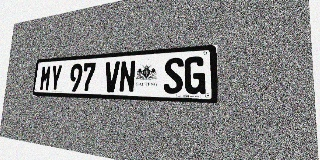7: (81, 63, 96, 92)
9: (69, 63, 83, 92)
G: (184, 56, 206, 94)
M: (39, 65, 52, 91)
N: (119, 60, 136, 93)
S: (163, 57, 184, 94)
V: (104, 61, 120, 92)
Y: (49, 65, 62, 91)
